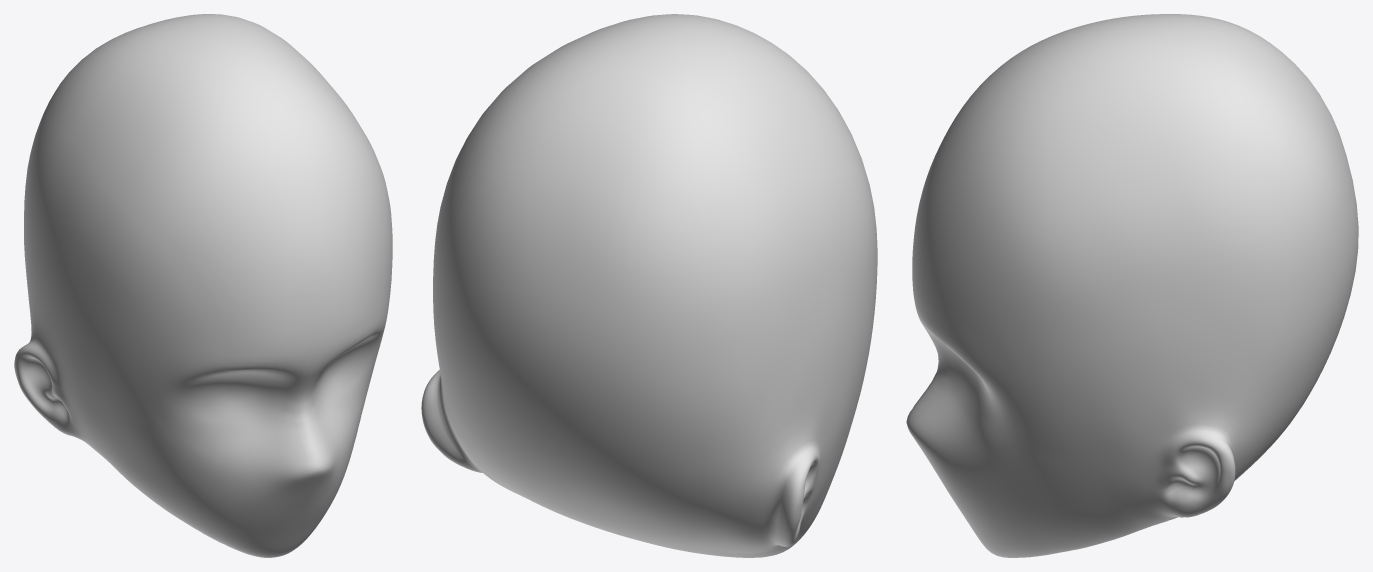
The model's file is Give this person a face.glb.
3 views of the same model, side by side, from view 1: azimuth 30°, elevation 25°; view 2: azimuth 150°, elevation 25°; view 3: azimuth 270°, elevation 25° (orthographic). The views are drawn at different scales.
Parts seen in each view (by area): view 1: head_1_skinny.1; view 2: head_1_skinny.1; view 3: head_1_skinny.1.
Boxes of the visible parts, x1,y1,x2,y2 form: head_1_skinny.1: (14,14,392,557); head_1_skinny.1: (421,14,877,557); head_1_skinny.1: (906,14,1358,557).
Size of the model in its own units: 0.1534 by 0.2195 by 0.1728.
Materials: 1 (1 with a texture image).
